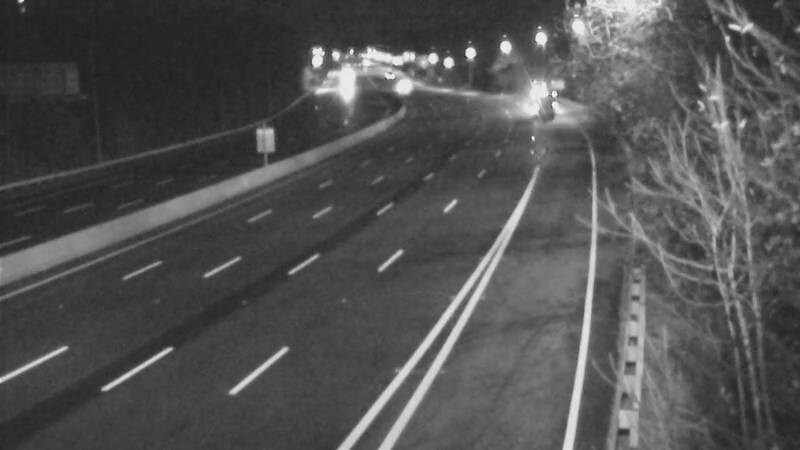vehicle: (376, 62, 426, 112), (504, 73, 554, 123), (319, 57, 369, 107)
